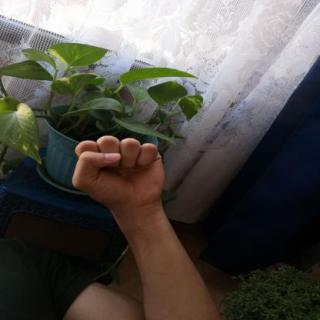SAD: (60, 126, 174, 216)
